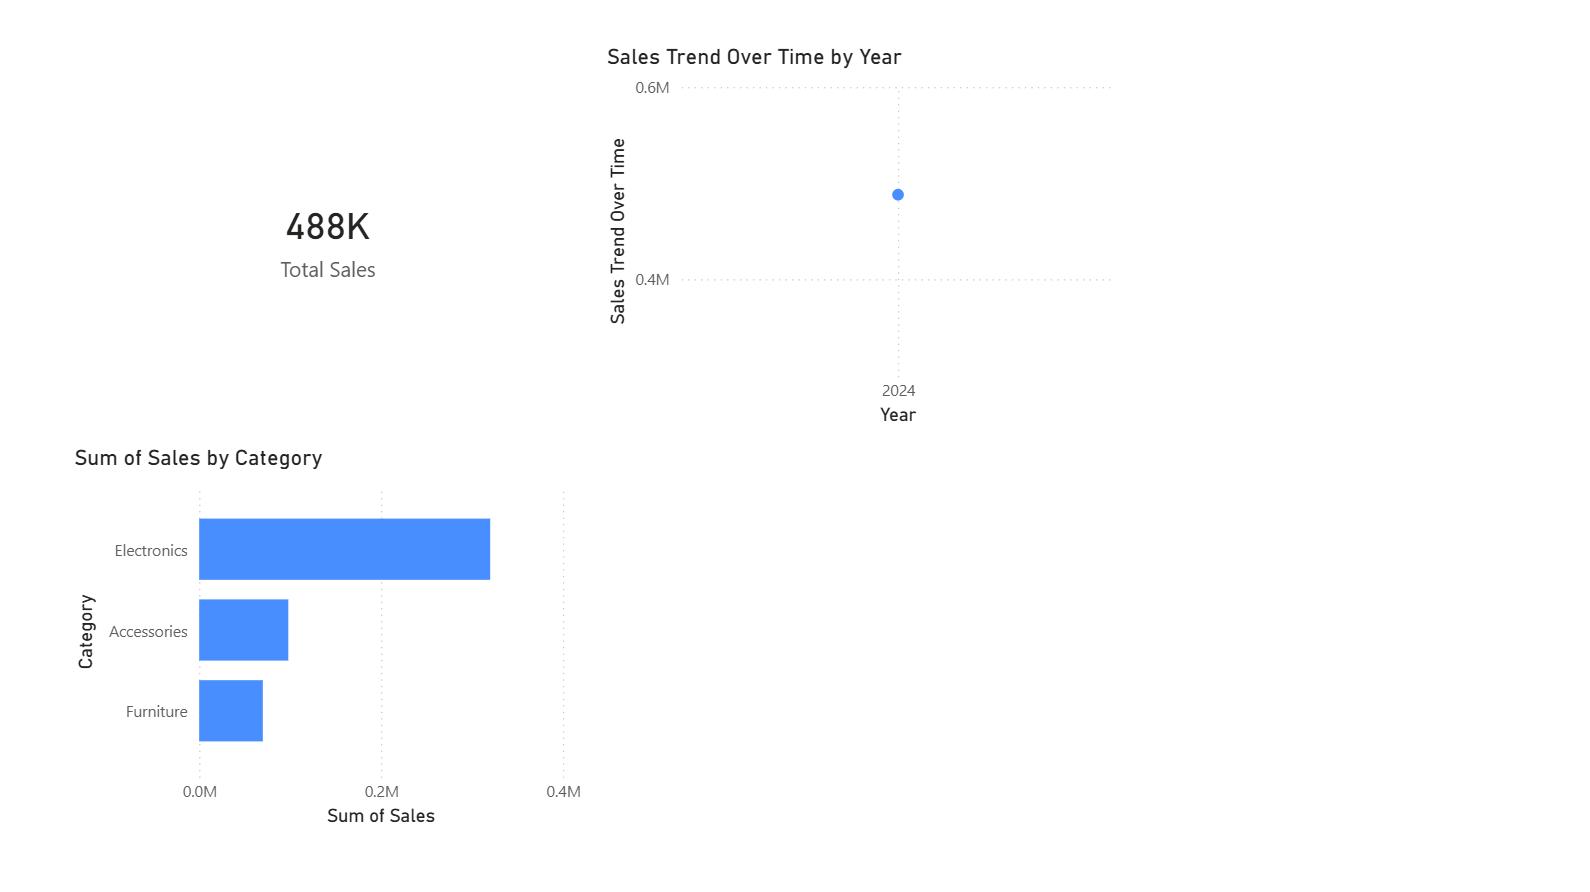

The page's visual inventory and layout, read from the dashboard file:
{"tool":"powerbi","page":{"name":"Page 1","canvas":[1280,720],"ordinal":0},"visuals":[{"type":"card","fields":{"Values":["Sum(Sheet1.Sales)"]},"box":[78.8,47.5,400.9,299],"z":0},{"type":"barChart","fields":{"Y":["Sum(Sheet1.Sales)"],"Category":["Sheet1.Category"]},"box":[79,357,401,299],"z":1},{"type":"lineChart","fields":{"Category":["Sheet1.Order_Date.Variation.Date Hierarchy.Year","Sheet1.Order_Date.Variation.Date Hierarchy.Quarter","Sheet1.Order_Date.Variation.Date Hierarchy.Month","Sheet1.Order_Date.Variation.Date Hierarchy.Day"],"Y":["Sum(Sheet1.Sales)"]},"box":[490,48,401,299],"z":2}]}

Visuals, with their boxes in screenshot pixels (x1, y1, x2, y2), scaled from the page's 1280x720 canvas onto the 1590x892 screenshot:
card - Sum(Sheet1.Sales): [left=98, top=59, right=596, bottom=429]
barChart - Sum(Sheet1.Sales) x Sheet1.Category: [left=98, top=442, right=596, bottom=813]
lineChart - Sheet1.Order_Date.Variation.Date Hierarchy.Year x Sheet1.Order_Date.Variation.Date Hierarchy.Quarter: [left=609, top=59, right=1107, bottom=430]
